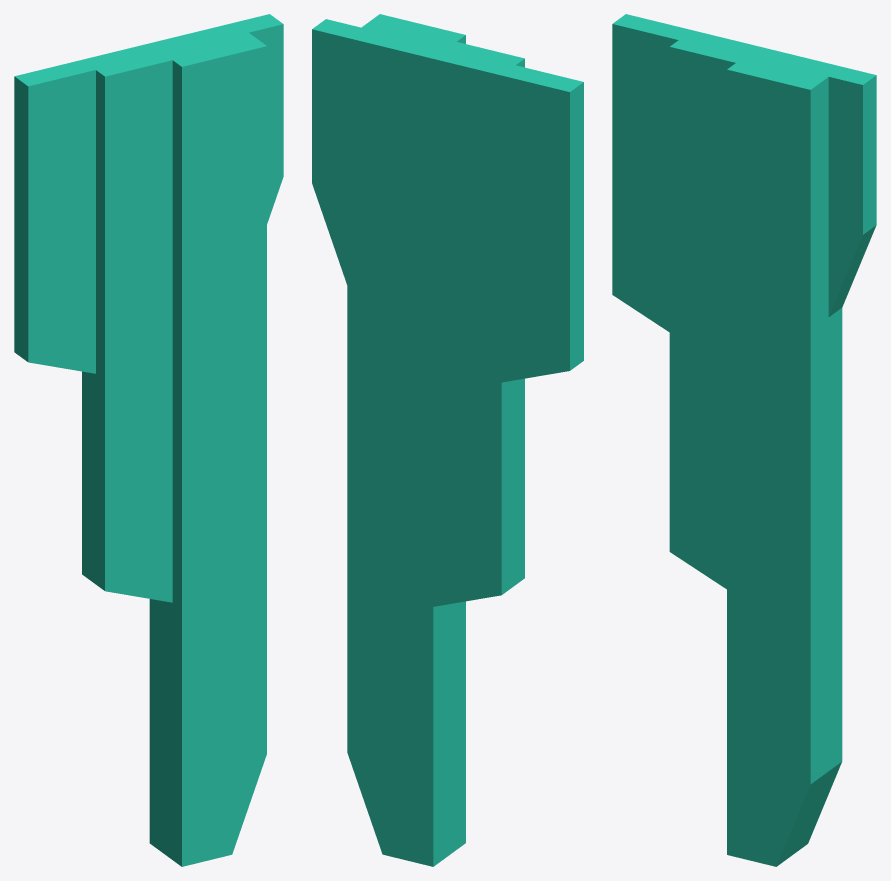
The model's file is hanging_moss.fbx.
3 views of the same model, side by side, from view 1: azimuth 30°, elevation 25°; view 2: azimuth 150°, elevation 25°; view 3: azimuth 330°, elevation 25° (orthographic). The views are drawn at different scales.
Parts seen in each view (by area): view 1: hanging_moss; view 2: hanging_moss; view 3: hanging_moss.
Part boxes in pixels (left/top/right/bottom): hanging_moss: left=14, top=14, right=283, bottom=866; hanging_moss: left=312, top=14, right=583, bottom=866; hanging_moss: left=612, top=14, right=876, bottom=866.
Size of the model in its own units: 1.6 by 4.78 by 0.35.
